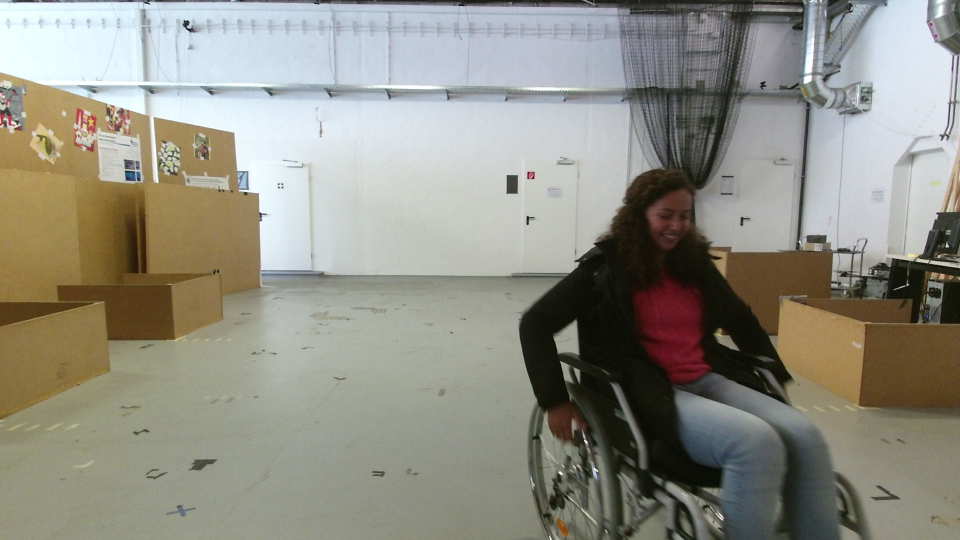wheelchair: (516, 166, 875, 540)
